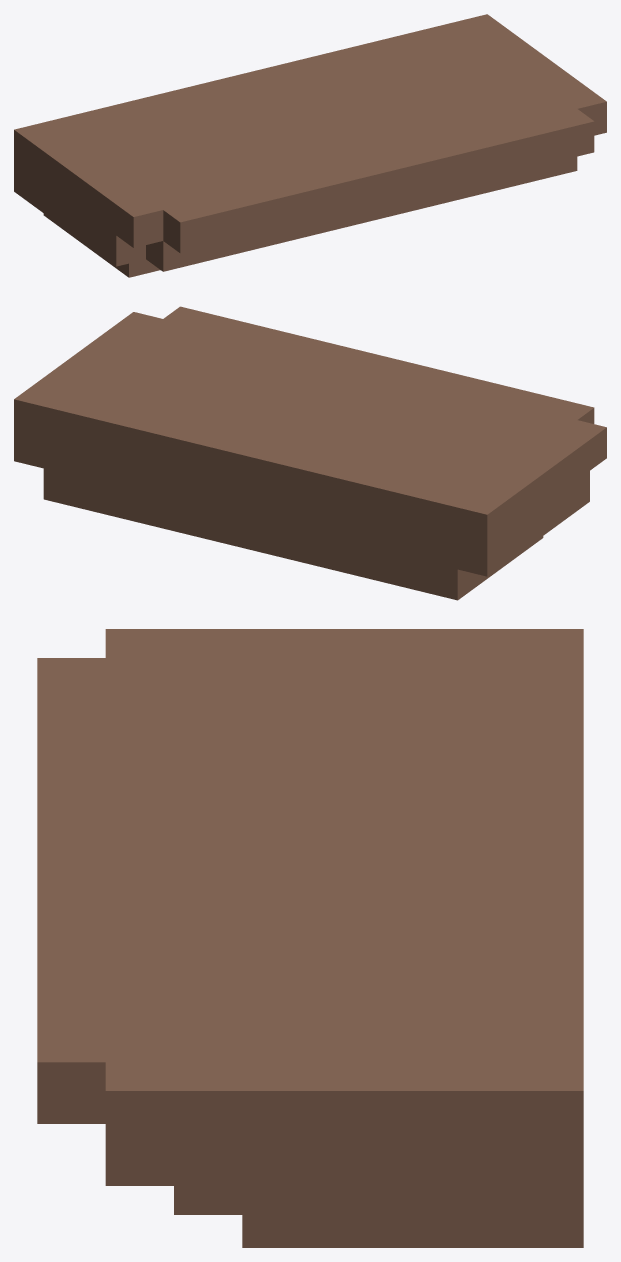
Rendered from Bedroom_Shelf.obj.
3 renders of one model, top to bottom at view 1: azimuth 30°, elevation 25°; view 2: azimuth 150°, elevation 25°; view 3: azimuth 270°, elevation 25°, orthographic. The views are drawn at different scales.
Bounding box in the file's own units: 16 × 3 × 8.
Materials: 1 (1 with a texture image).
